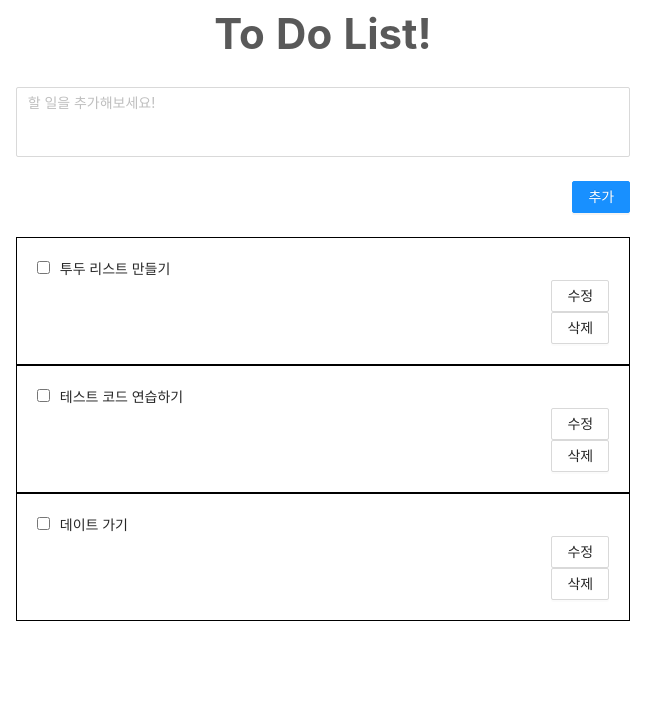
Test: 투두리스트 애플리케이션 테스트 › 투두리스트 수정하기
Click the 1st button "수정" at x=580, y=296, box [551,280,609,312]
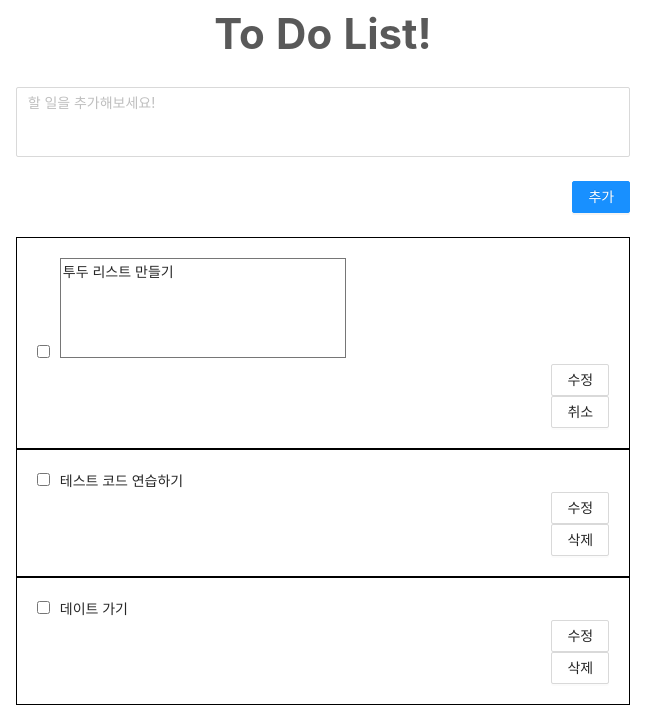
Type "1234" into the text box with id "modifyTodoForm" at x=203, y=308, box [60,258,346,358]
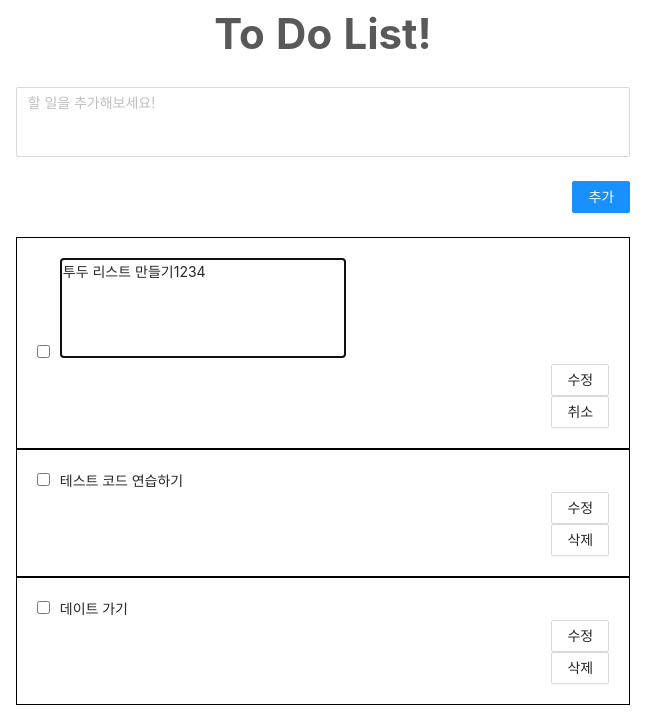
Click the button with id "modifydone" at x=580, y=380, box [551,364,609,396]
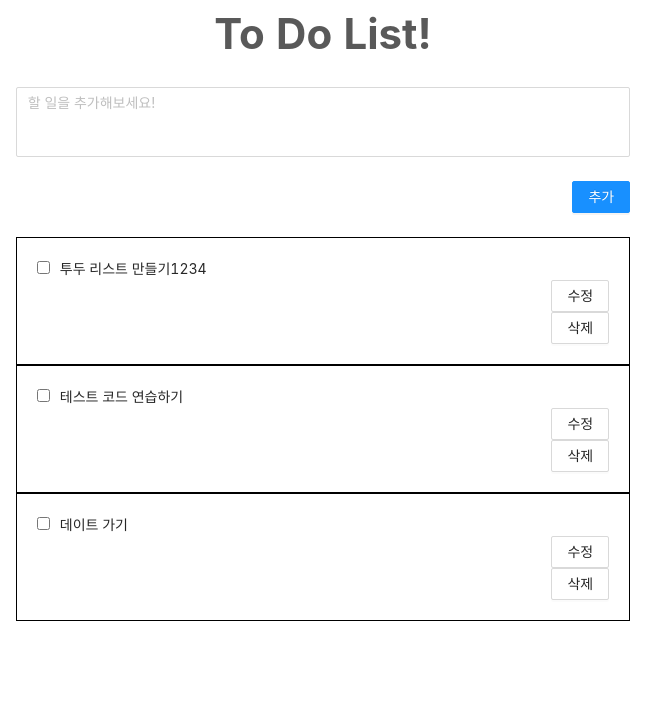
expect the text "투두 리스트 만들기1234" is shown: met, box [60,260,207,277]
